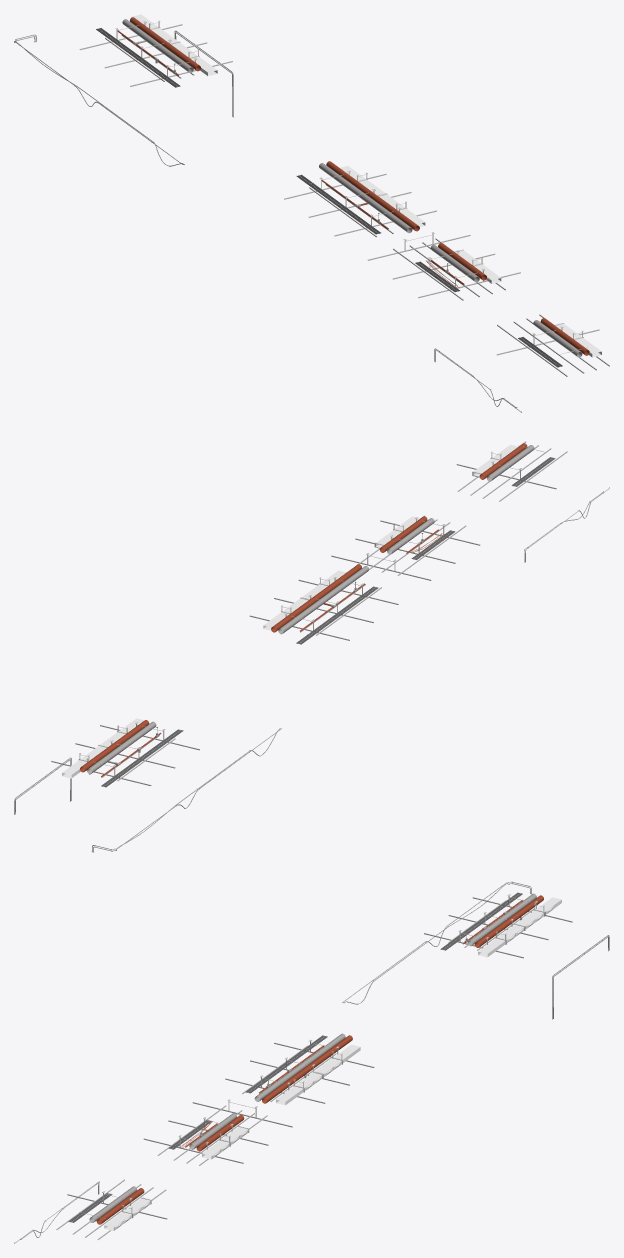
3 renders of one model, top to bottom at view 1: azimuth 30°, elevation 25°; view 2: azimuth 150°, elevation 25°; view 3: azimuth 330°, elevation 25°, orthographic. The views are drawn at different scales.
Parts seen in each view (by area): view 1: SM_H_Building_FutureTech_HBlue_01_InterWall_09B; view 2: SM_H_Building_FutureTech_HBlue_01_InterWall_09B; view 3: SM_H_Building_FutureTech_HBlue_01_InterWall_09B.
Boxes of the visible parts, x1=… form: SM_H_Building_FutureTech_HBlue_01_InterWall_09B: x1=14, y1=14, x2=609, y2=412; SM_H_Building_FutureTech_HBlue_01_InterWall_09B: x1=14, y1=441, x2=609, y2=852; SM_H_Building_FutureTech_HBlue_01_InterWall_09B: x1=14, y1=881, x2=609, y2=1243.
Bounding box in the file's own units: 1406 × 214 × 126.
